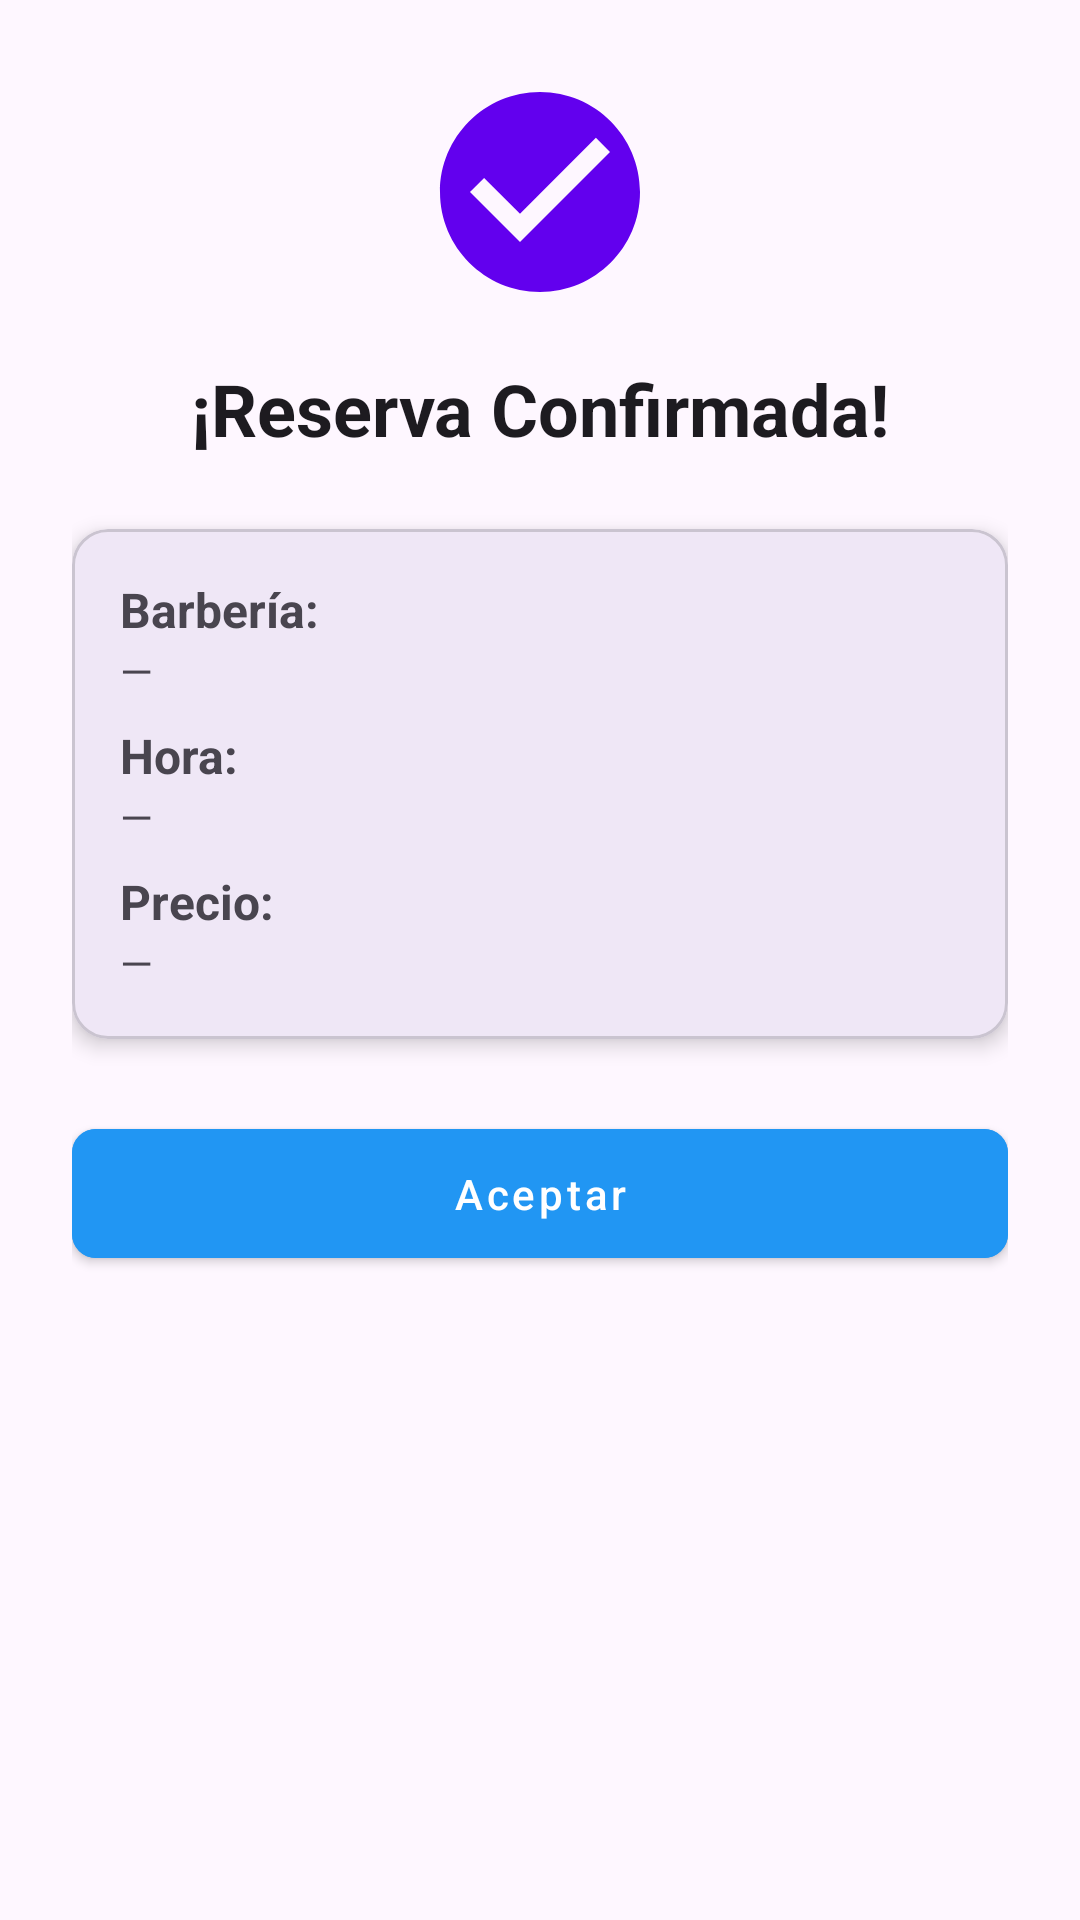

Screen size 1080×1920. Icon name, then its box in pixels as (x1=x1, y1=y1, x2=x2, y2=y2):
check circle: (x1=439, y1=92, x2=640, y2=292)
